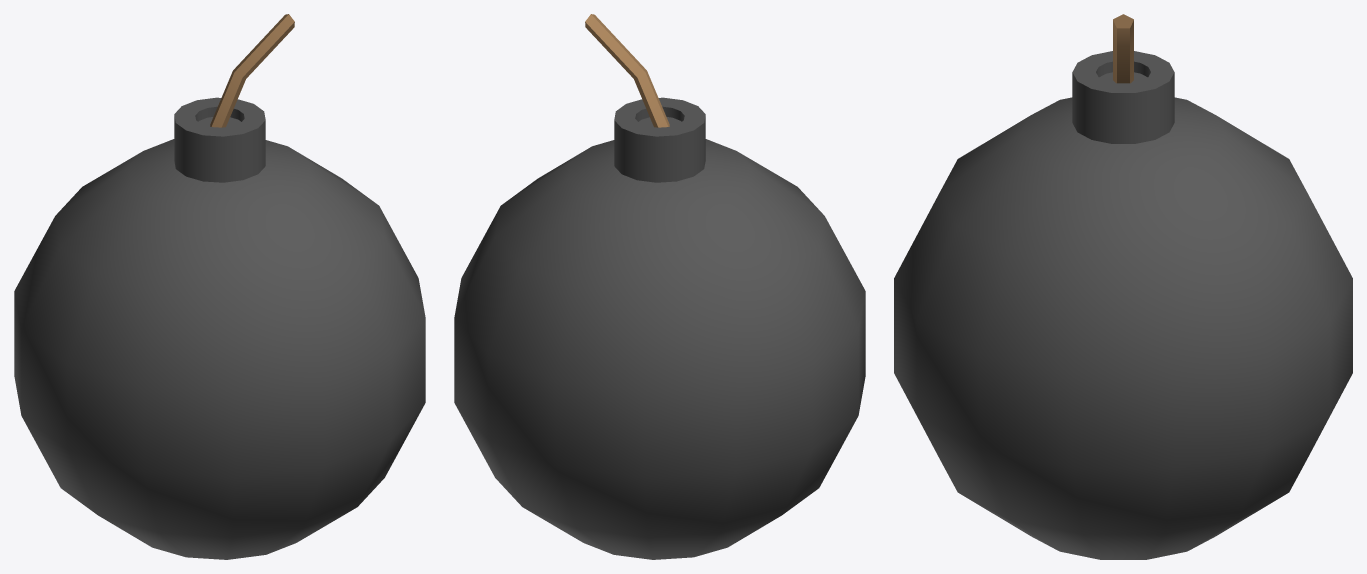
File: Bomb.FBX
3 views of the same model, side by side, from view 1: azimuth 30°, elevation 25°; view 2: azimuth 150°, elevation 25°; view 3: azimuth 270°, elevation 25° (orthographic). The views are drawn at different scales.
Parts seen in each view (by area): view 1: Sphere001; view 2: Sphere001; view 3: Sphere001.
Boxes of the visible parts, x1,y1,x2,y2 form: Sphere001: (14, 14, 425, 559); Sphere001: (454, 14, 865, 559); Sphere001: (894, 14, 1352, 559).
Bounding box in the file's own units: 95.05 × 127 × 97.49.
